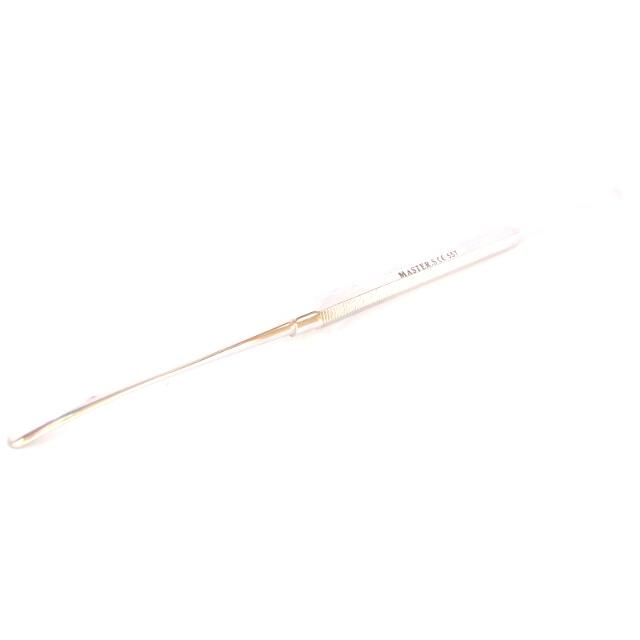elevador: (8, 225, 538, 451)
